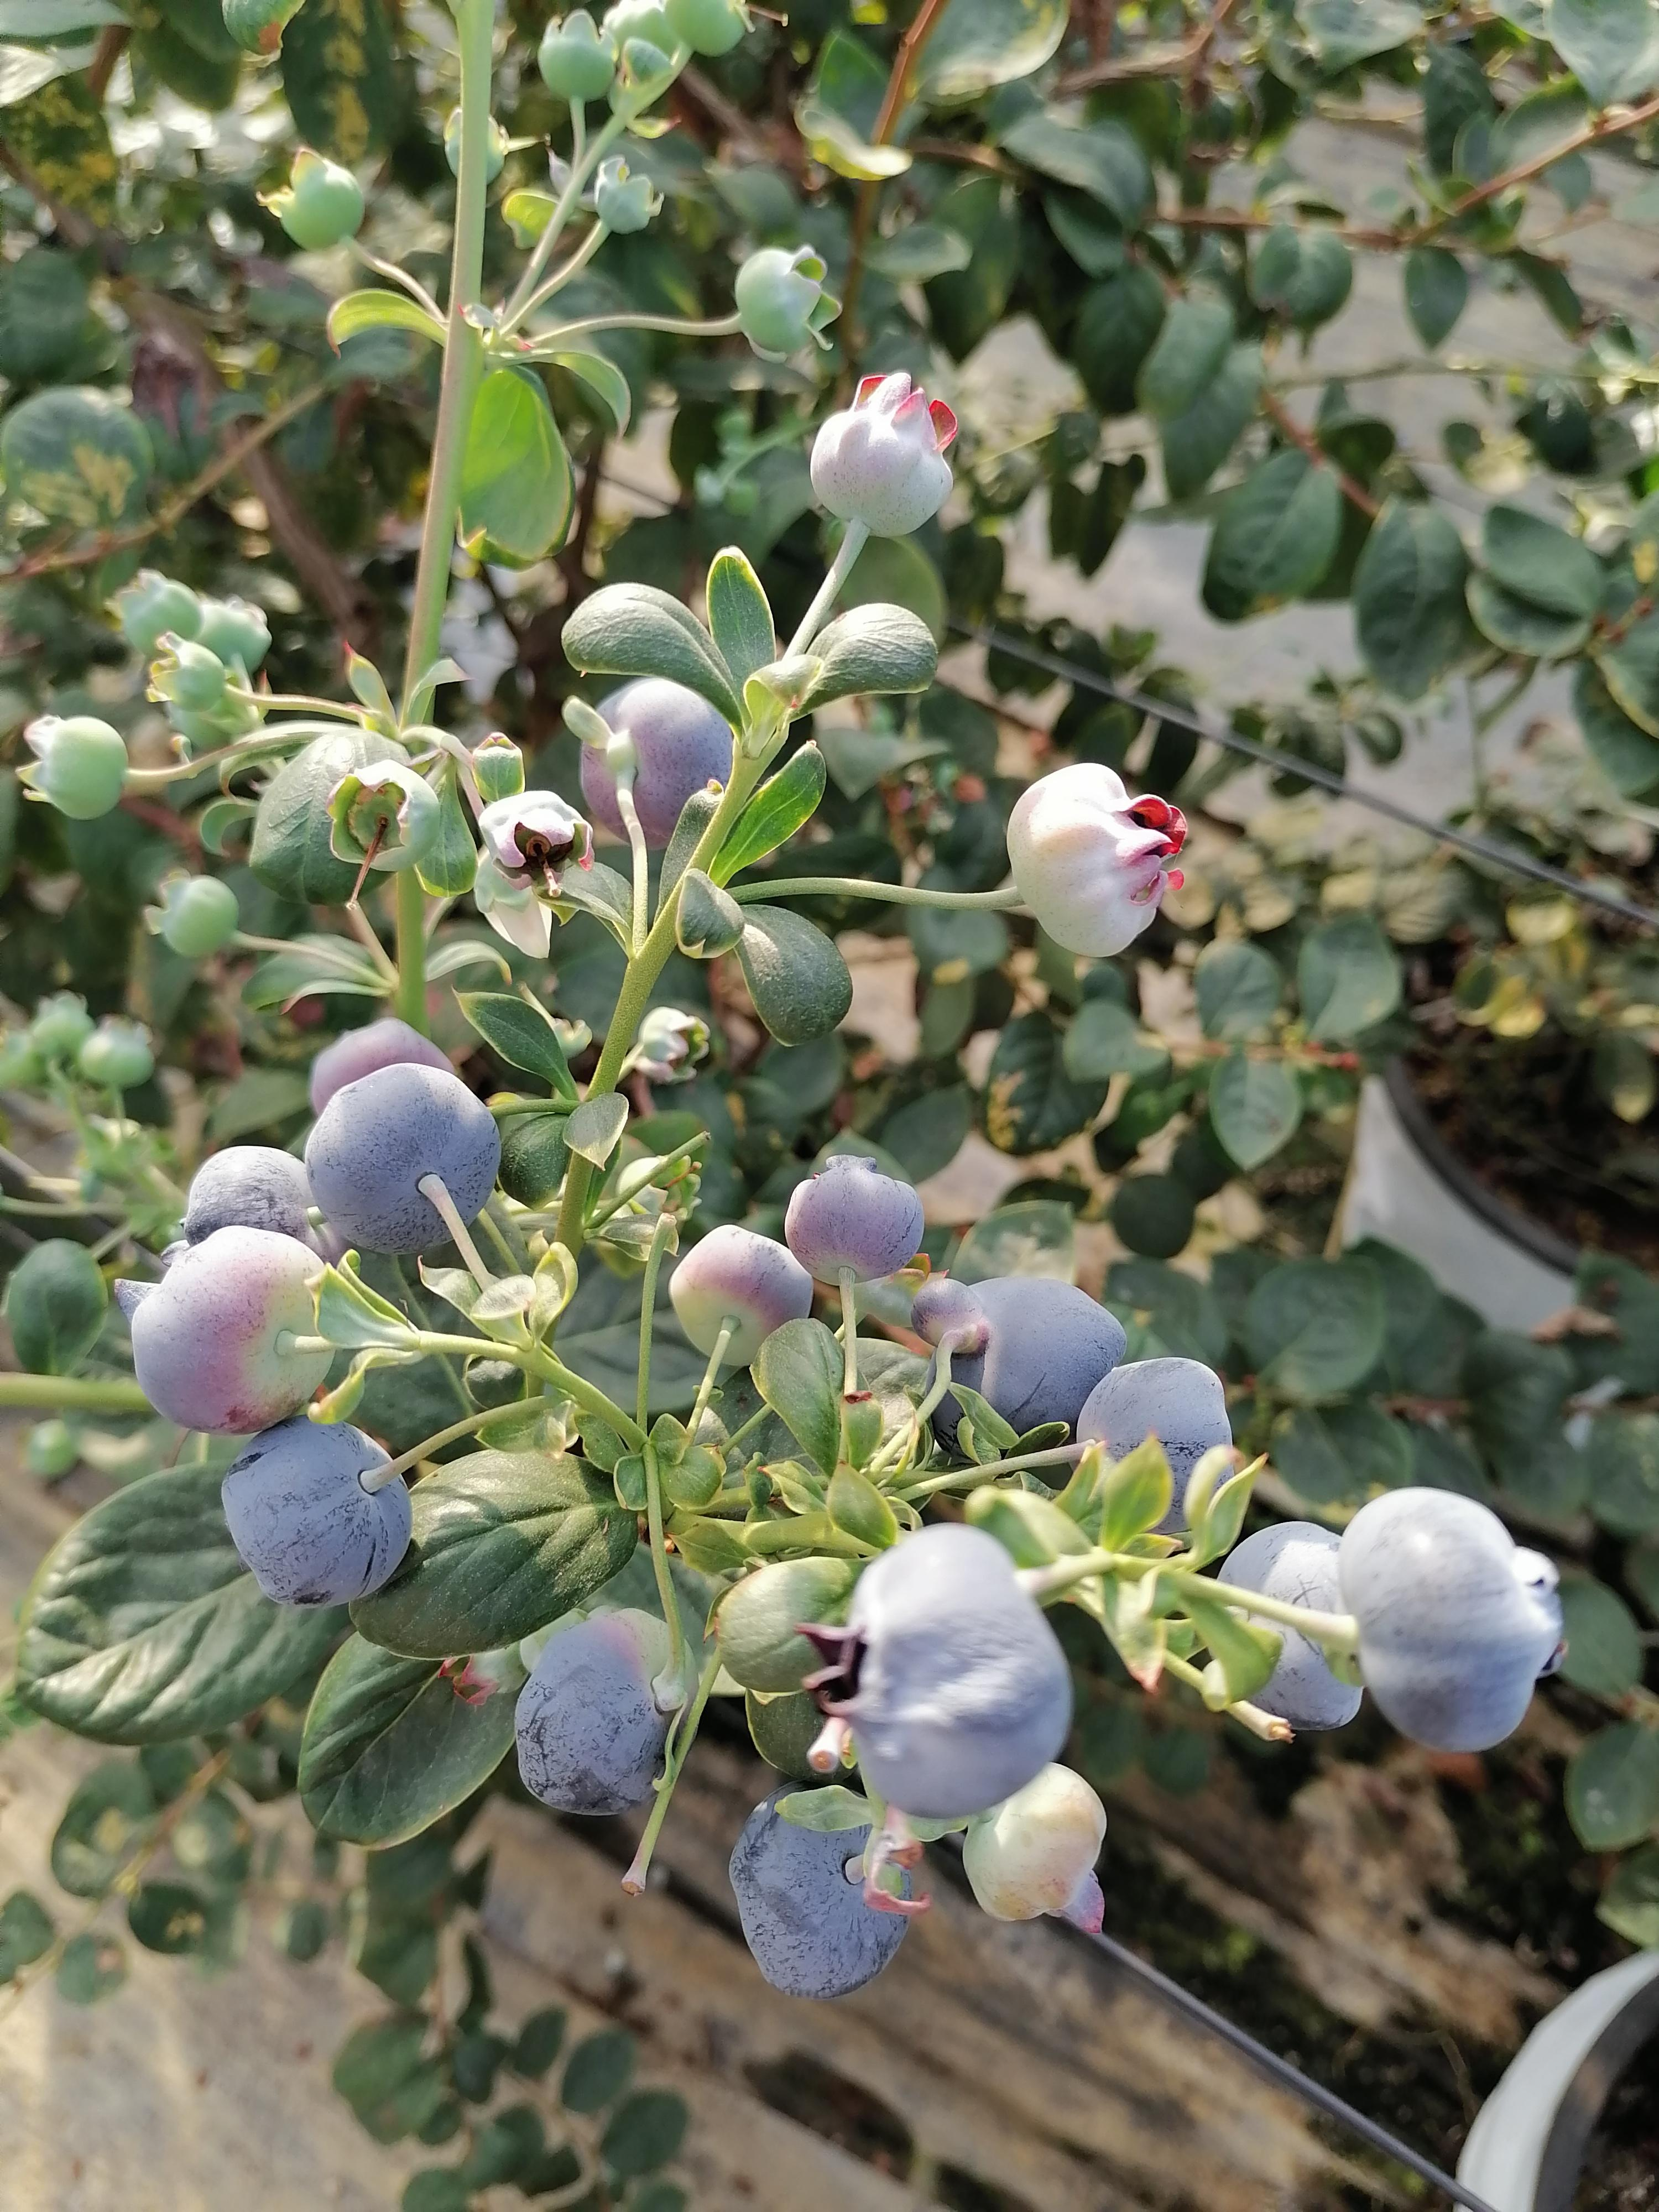ripe-blueberries: (800, 1519, 1079, 1820), (1338, 1480, 1567, 1756), (915, 1268, 1134, 1500), (725, 1785, 917, 2003), (300, 1057, 504, 1261), (511, 1606, 697, 1824), (221, 1406, 416, 1609), (1206, 1514, 1368, 1737), (1070, 1357, 1246, 1557), (586, 672, 737, 848), (169, 1143, 343, 1263), (784, 1151, 929, 1285)
